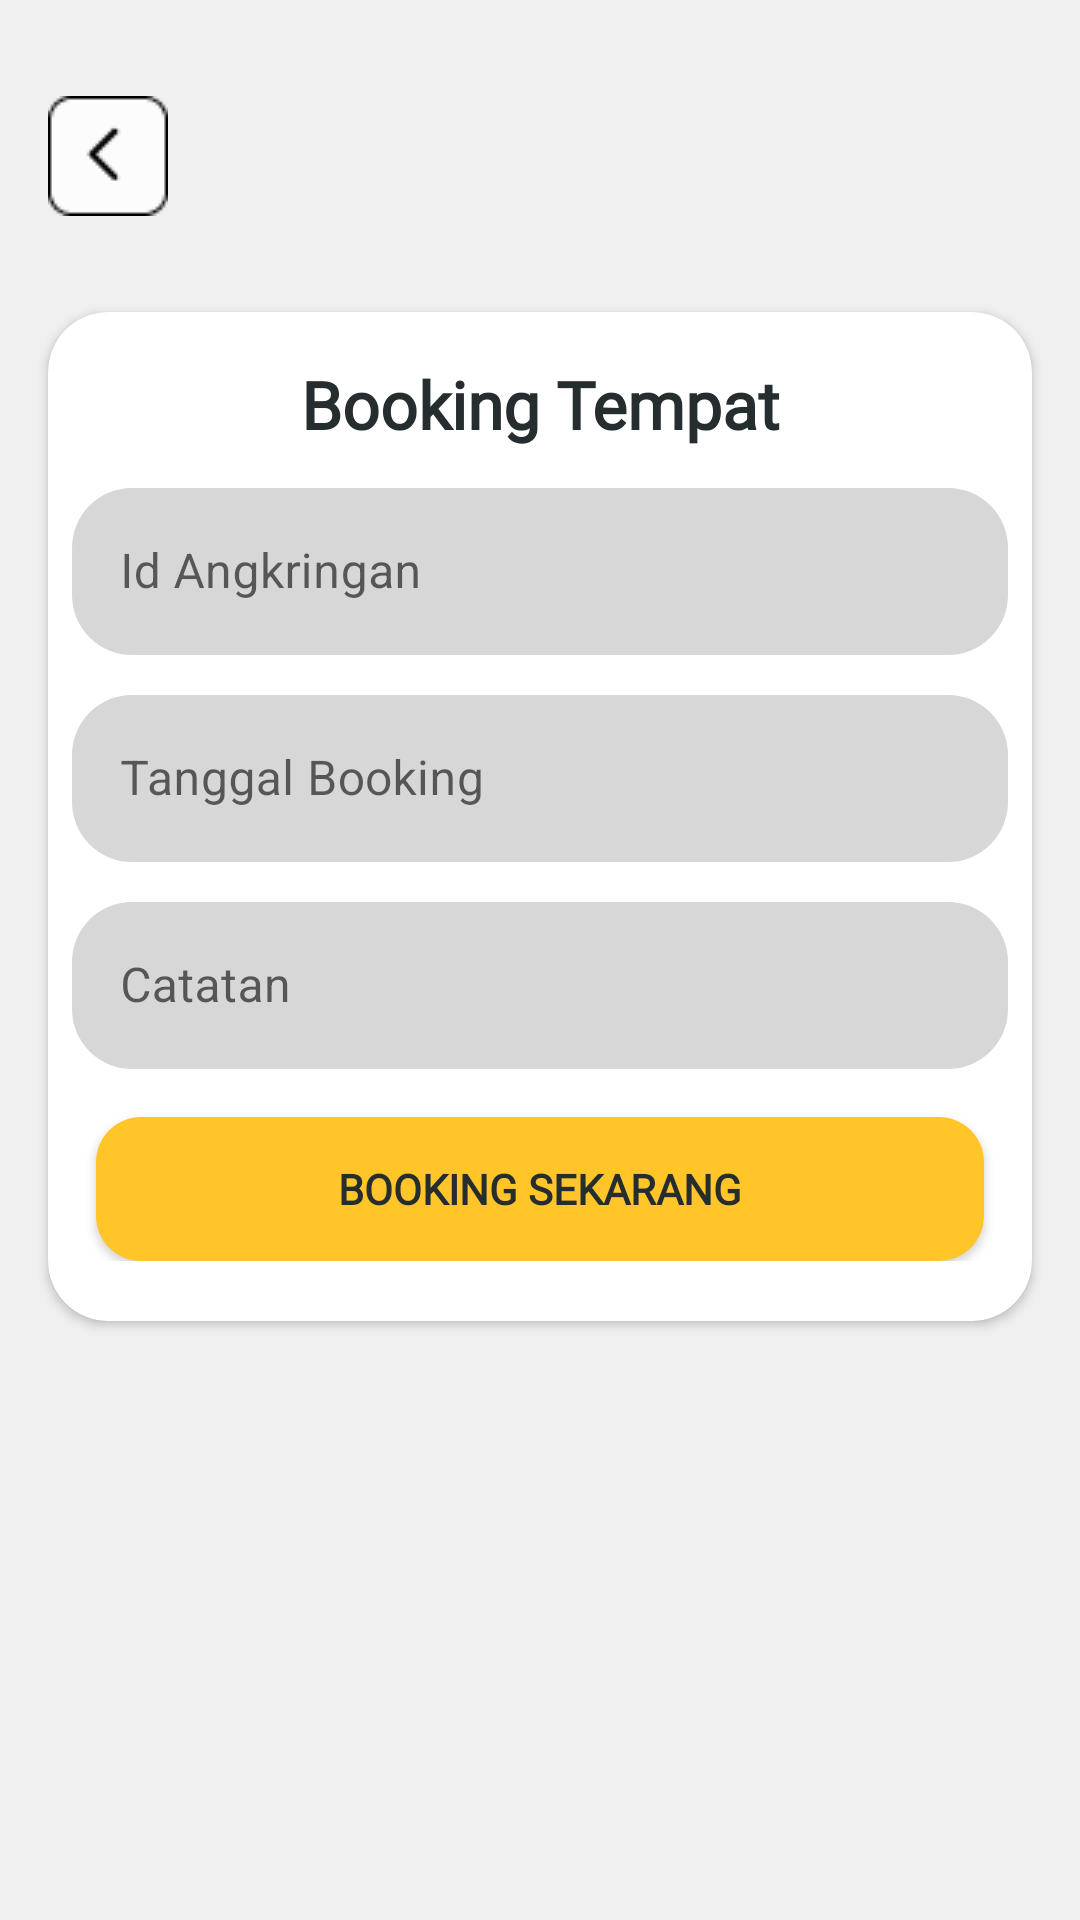

Icons on this 1080×1920 Android screen, each with its box as (x1, y1, x2, y2):
back: (48, 96, 168, 216)
